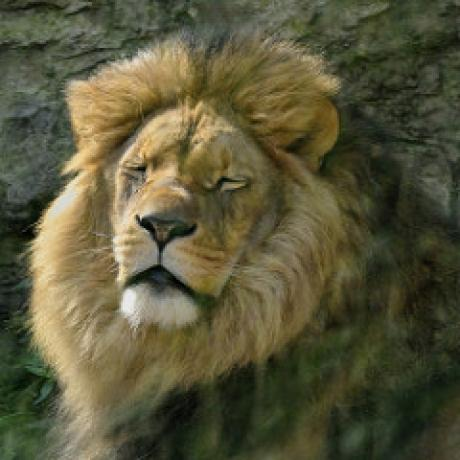Lion: (25, 29, 460, 460)
